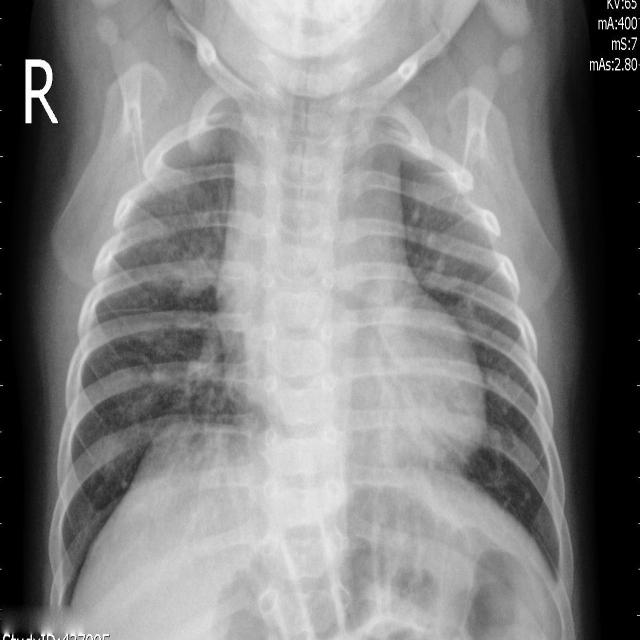low-pneumonia: (126, 174, 239, 306), (418, 177, 484, 301), (175, 319, 238, 420)
